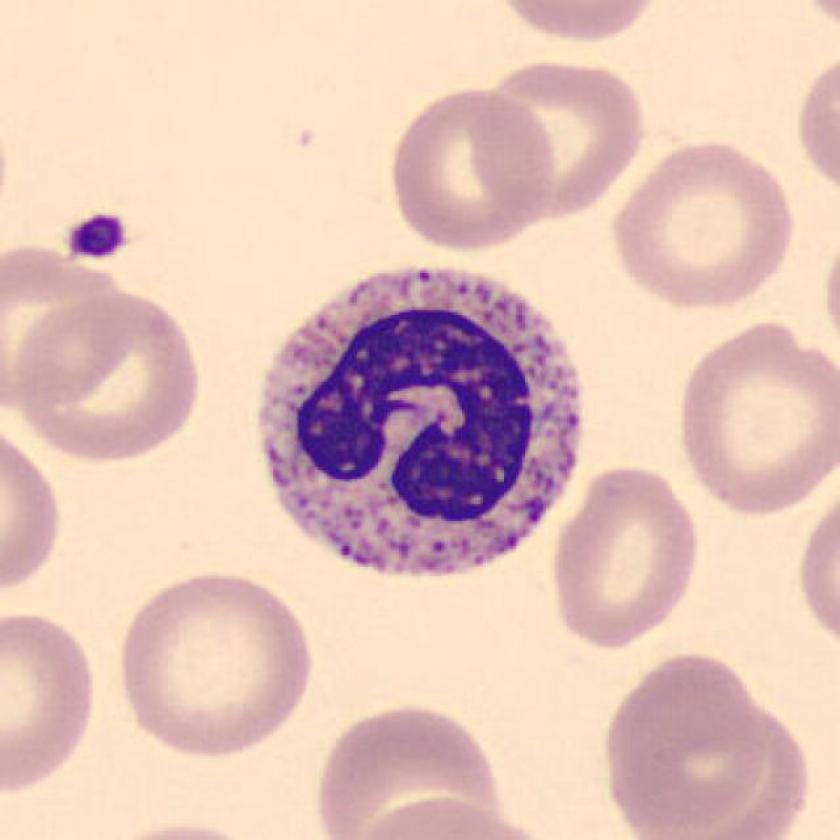neutrophil: (256, 266, 585, 573)
platelets: (68, 213, 127, 259)
